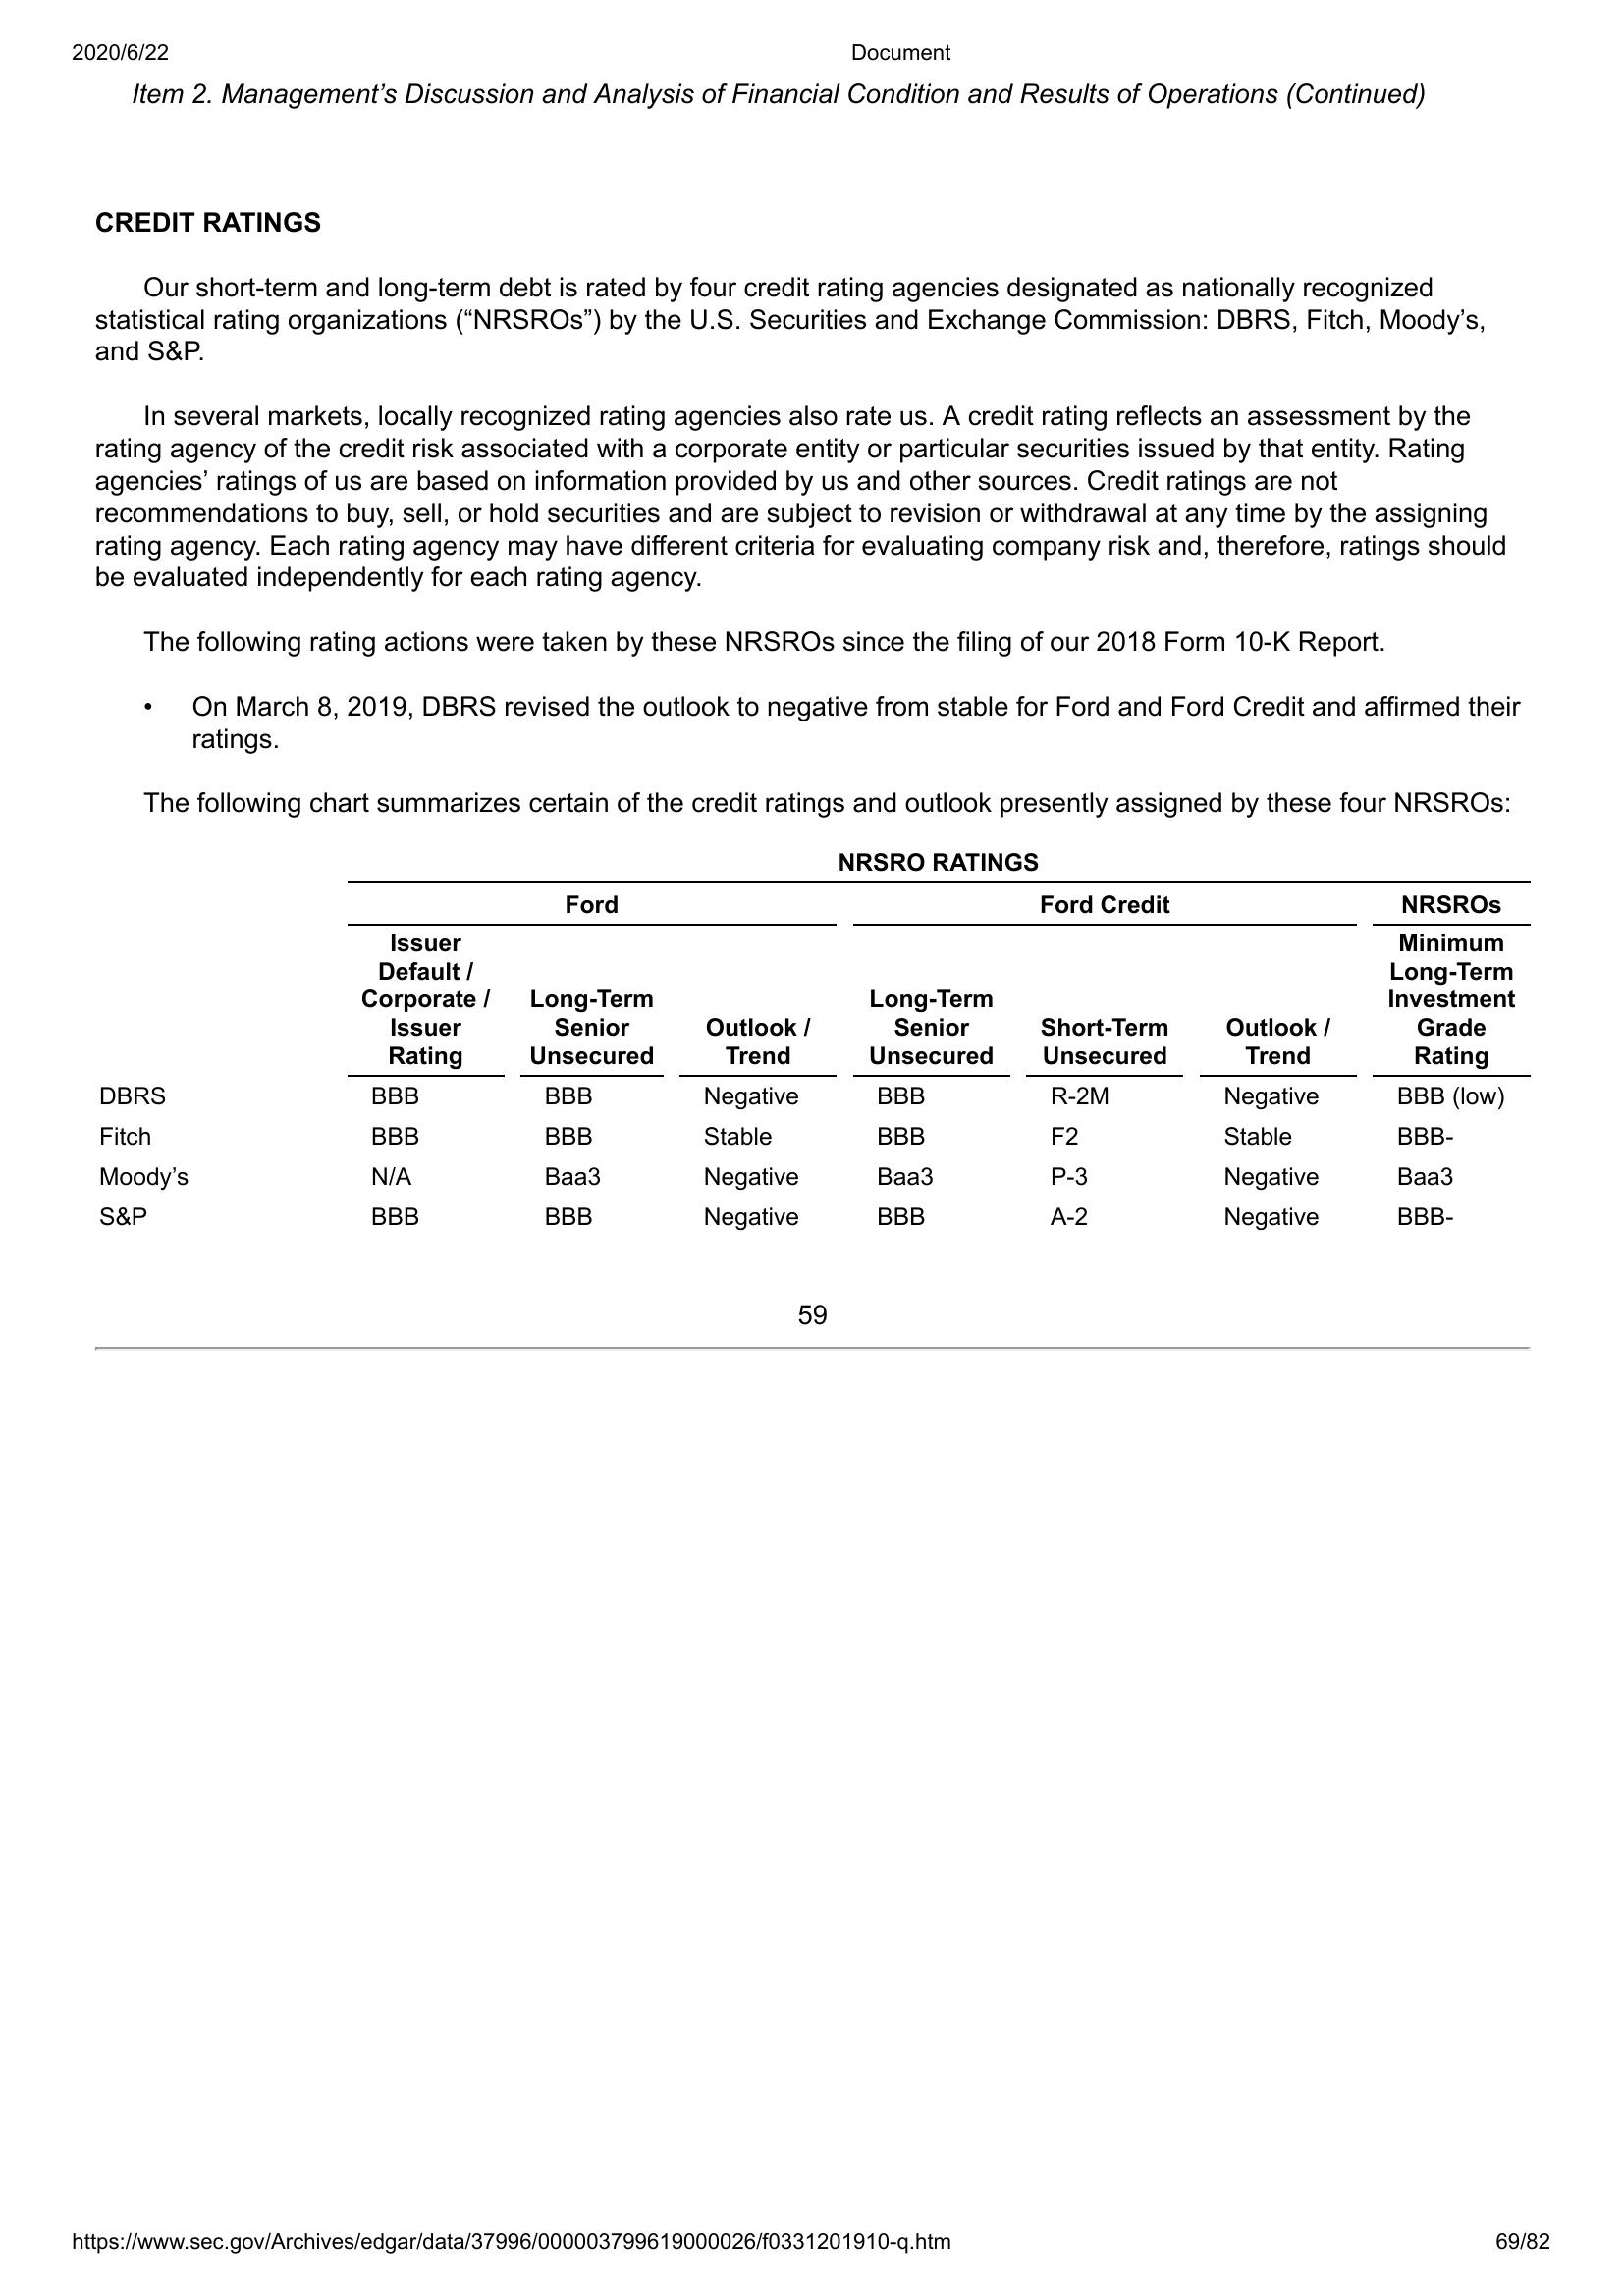table: (97, 846, 1528, 1239)
